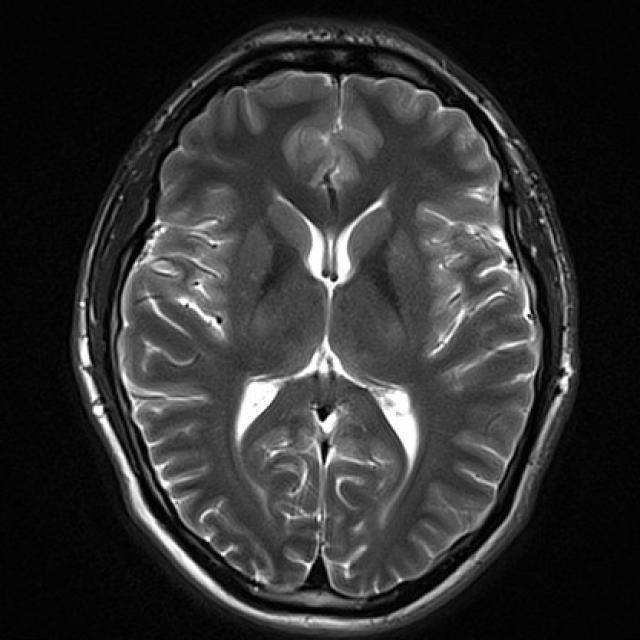No_Tumor: (73, 21, 576, 635)
